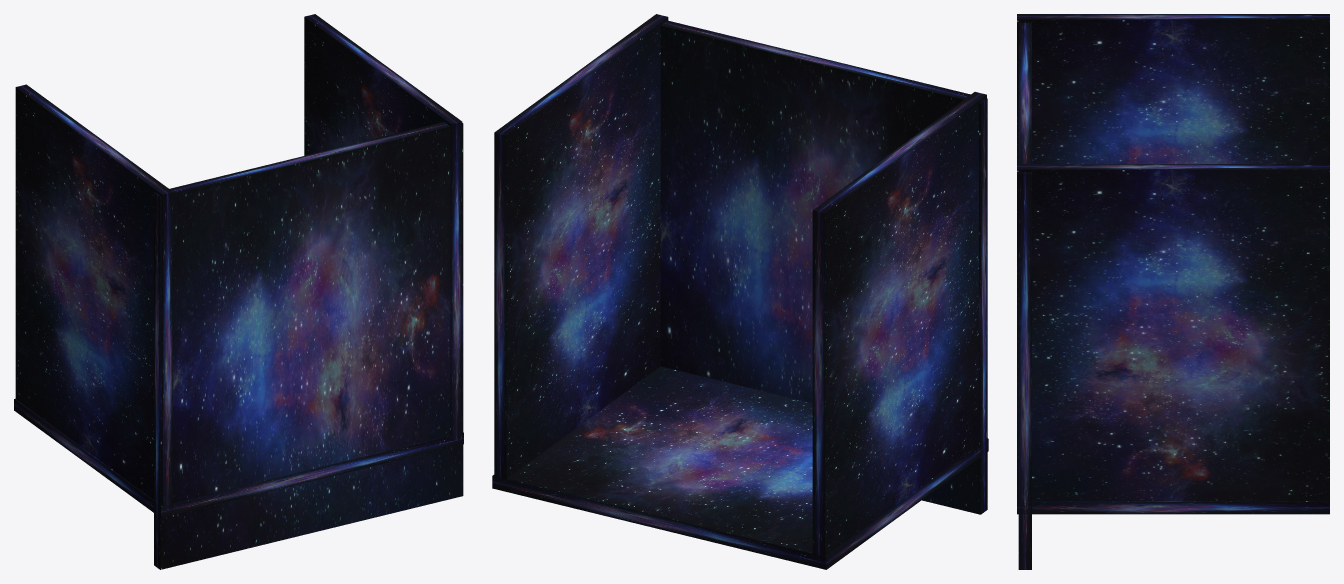
File: SpaceMapBack.FBX
The picture shows the model from 3 angles, left to right: view 1: azimuth 30°, elevation 25°; view 2: azimuth 150°, elevation 25°; view 3: azimuth 270°, elevation 25°; orthographic projection. The views are drawn at different scales.
Visible parts, largest first — view 1: Box004, Box002, Box003, Box001; view 2: Box004, Box002, Box003, Box001; view 3: Box003, Box002, Box004, Box001.
Boxes of the visible parts, <box> form: Box004: <box>154,122,463,569</box>; Box002: <box>15,84,173,511</box>; Box003: <box>304,14,462,440</box>; Box001: <box>14,398,463,517</box>; Box004: <box>660,20,987,514</box>; Box002: <box>812,92,986,562</box>; Box003: <box>494,14,668,478</box>; Box001: <box>492,366,988,569</box>; Box003: <box>1017,164,1329,501</box>; Box002: <box>1017,14,1329,163</box>; Box004: <box>1018,22,1031,569</box>; Box001: <box>1017,501,1329,514</box>.
Bounding box in the file's own units: 1639 × 1942 × 1378.
1 material, 1 textured.
